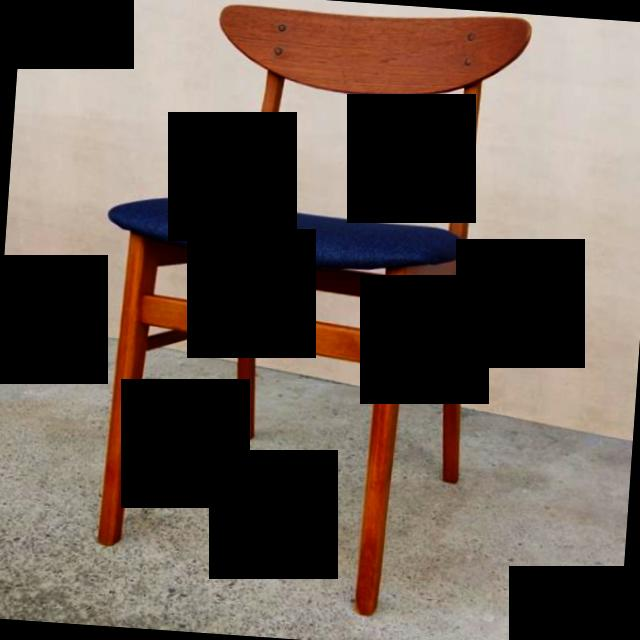chair vintage: (78, 0, 527, 625)
